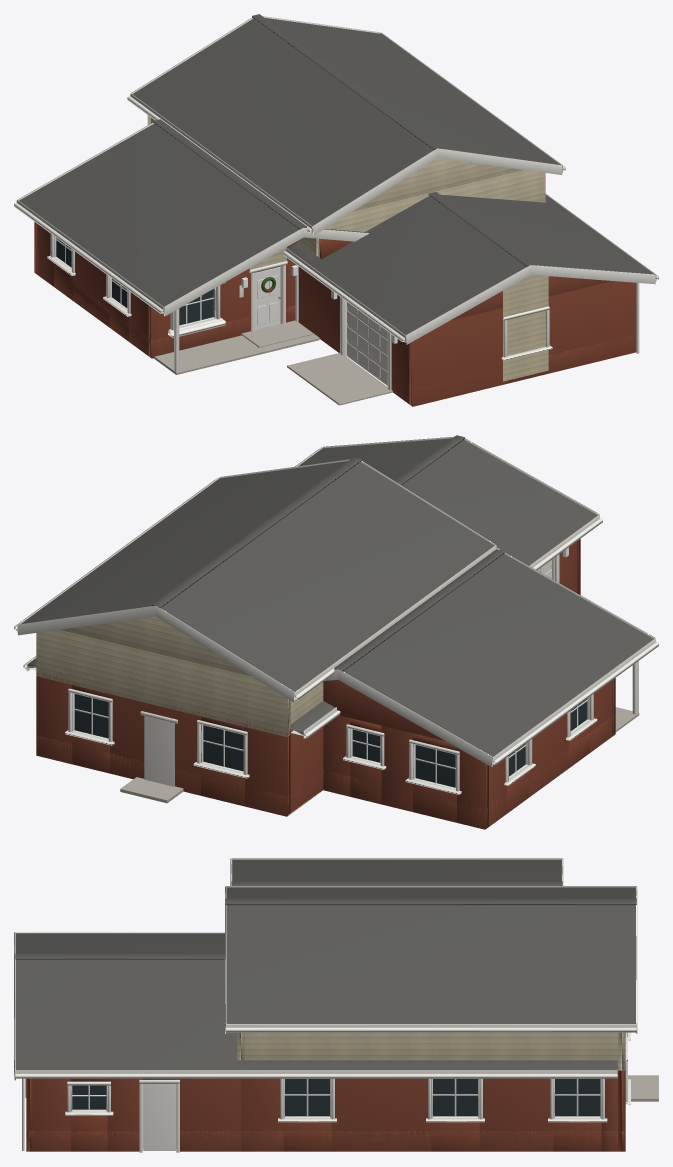
File: building_suburb_house.glb
3 views of the same model, one above another, from view 1: azimuth 30°, elevation 25°; view 2: azimuth 150°, elevation 25°; view 3: azimuth 270°, elevation 25° (orthographic). The views are drawn at different scales.
Visible parts, largest first — view 1: roof, wall_front, wall_left, base, wall_front_low, door, wall_left_low; view 2: roof, wall_back, wall_left, wall_back_low, wall_front, wall_left_low, base; view 3: roof, wall_right, wall_right_low, wall_back, base, wall_front.
Boxes of the visible parts, x1=… form: roof: x1=14, y1=14, x2=658, y2=344; wall_front: x1=148, y1=238, x2=639, y2=406; wall_left: x1=37, y1=224, x2=148, y2=355; base: x1=241, y1=320, x2=392, y2=405; wall_front_low: x1=148, y1=305, x2=635, y2=406; door: x1=255, y1=267, x2=280, y2=329; wall_left_low: x1=37, y1=263, x2=148, y2=355; roof: x1=14, y1=435, x2=658, y2=767; wall_back: x1=36, y1=672, x2=488, y2=829; wall_left: x1=489, y1=680, x2=611, y2=826; wall_back_low: x1=36, y1=735, x2=488, y2=829; wall_front: x1=537, y1=539, x2=639, y2=736; wall_left_low: x1=489, y1=717, x2=611, y2=826; base: x1=120, y1=777, x2=322, y2=815; roof: x1=14, y1=858, x2=637, y2=1080; wall_right: x1=33, y1=1066, x2=618, y2=1152; wall_right_low: x1=33, y1=1131, x2=618, y2=1151; wall_back: x1=618, y1=1032, x2=630, y2=1151; base: x1=143, y1=1075, x2=658, y2=1148; wall_front: x1=22, y1=1078, x2=33, y2=1151.
Bounding box in the file's own units: 14.22 × 5.62 × 17.43.
16 materials, 16 textured.
